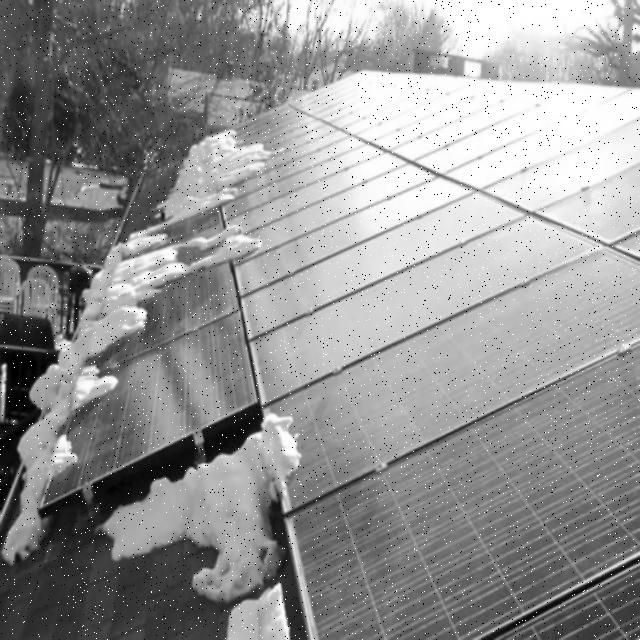snow covered: (43, 206, 255, 509)
